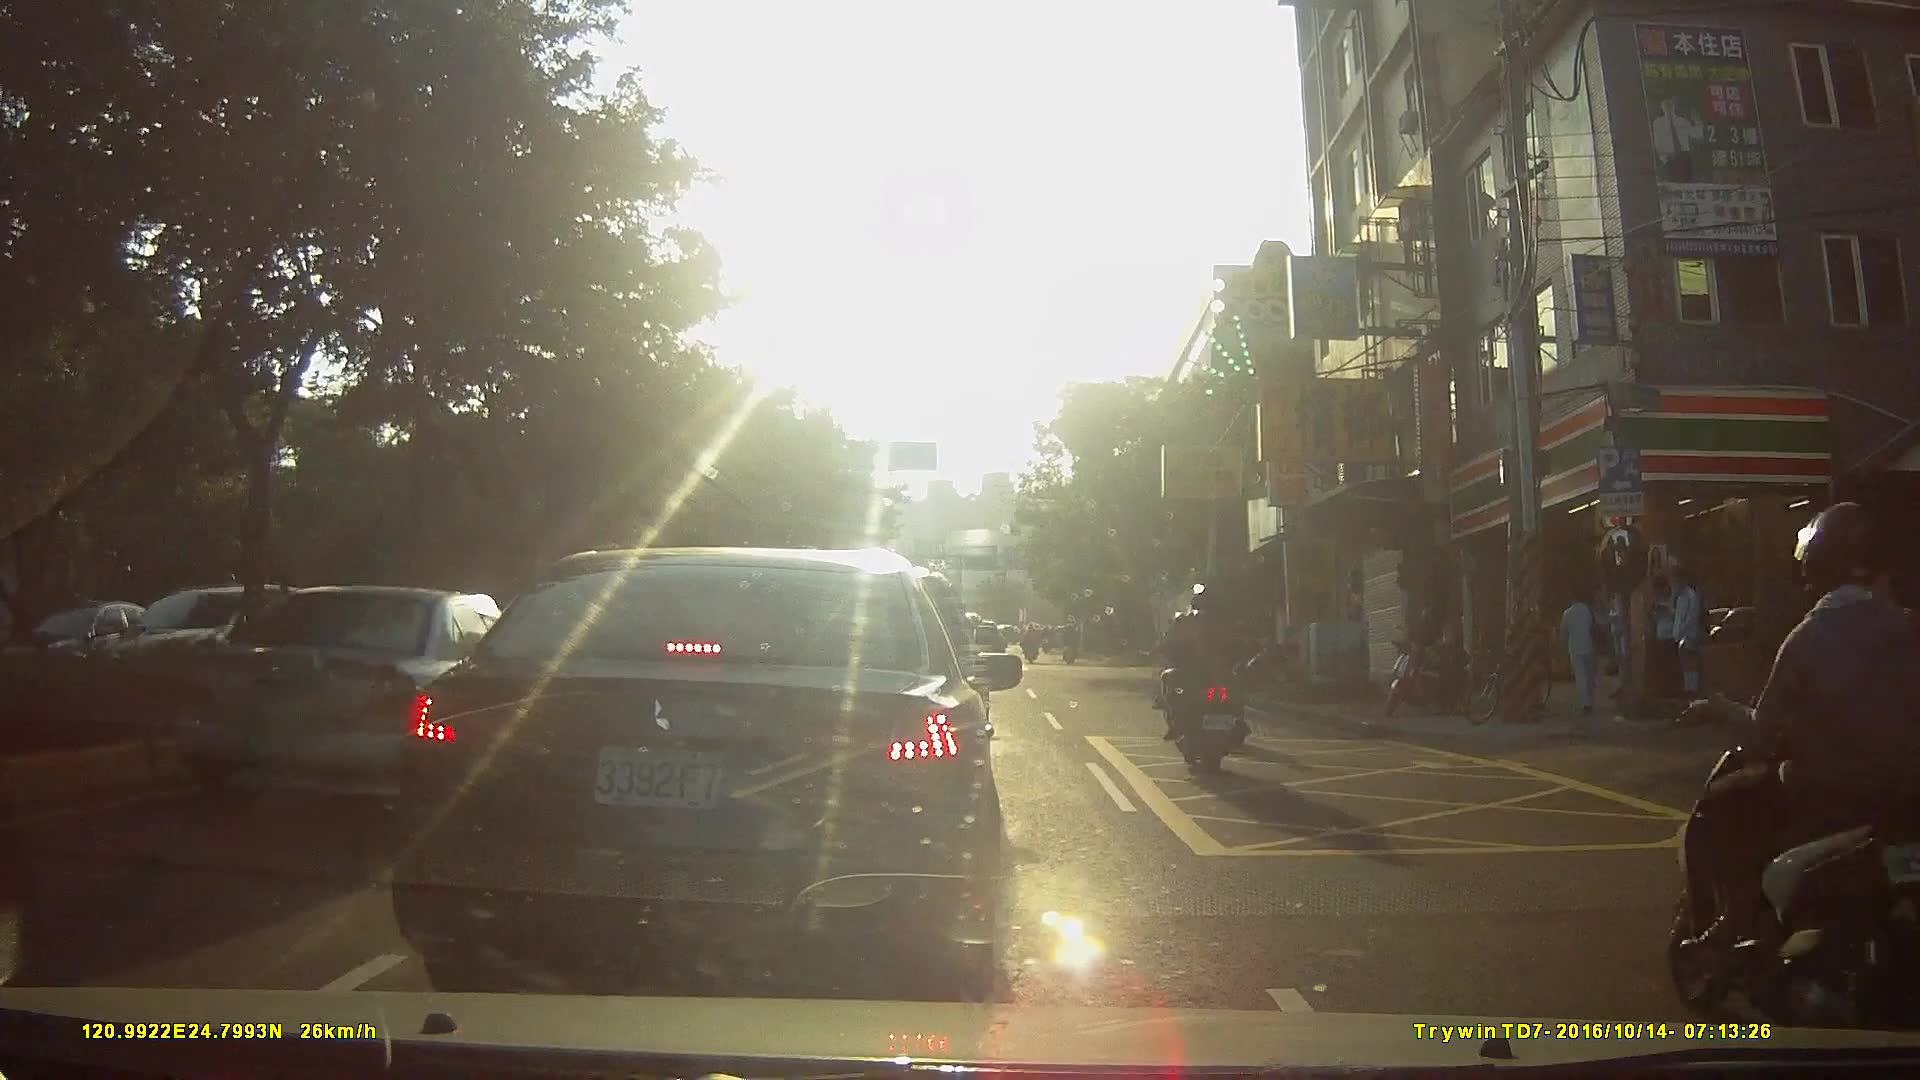pedestrian: (1837, 567, 1920, 854), (1809, 574, 1874, 770), (1556, 579, 1608, 715), (1610, 574, 1655, 708), (1663, 569, 1705, 699), (1648, 569, 1687, 706), (1675, 563, 1710, 695)
rider: (1675, 498, 1920, 1080), (1160, 584, 1253, 776), (1060, 619, 1082, 664), (1022, 618, 1043, 666)
vehicle: (380, 540, 1037, 984), (170, 579, 574, 814)
